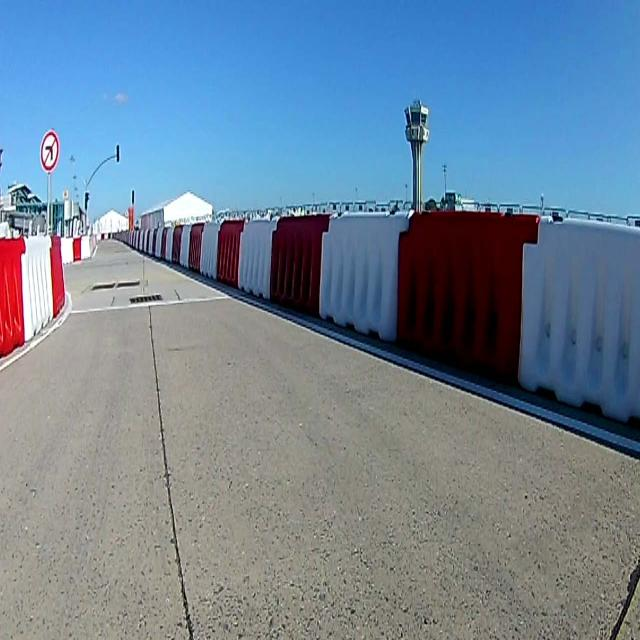soladonulmez: (39, 128, 62, 172)
